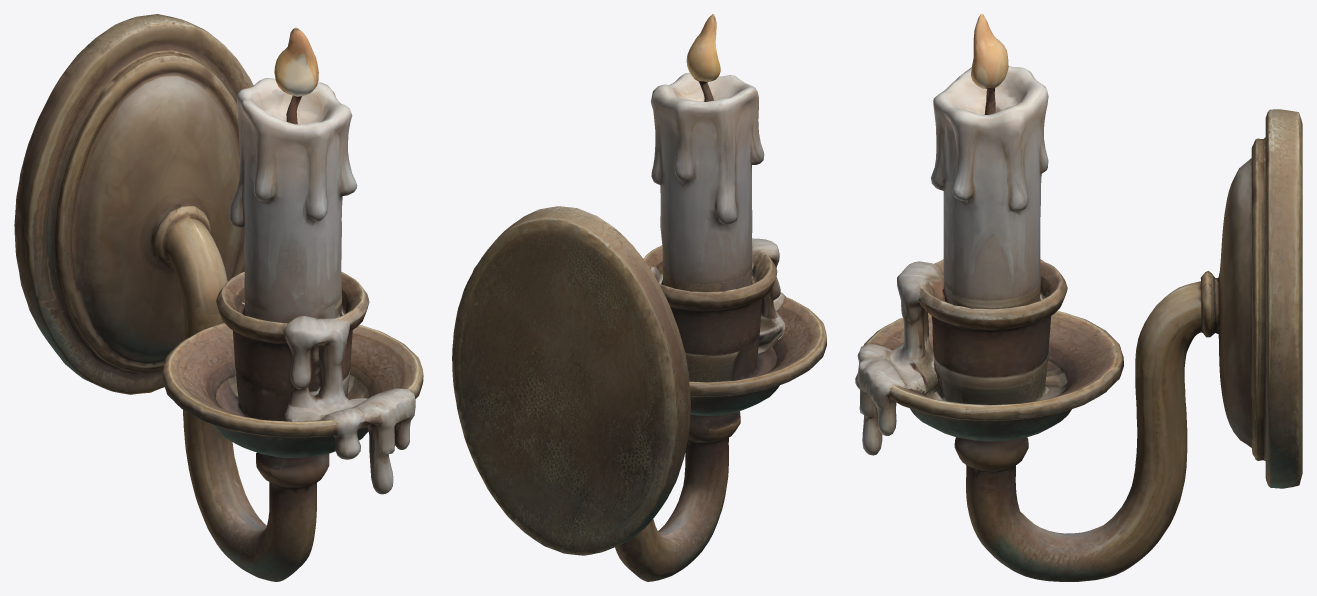
Rendered from Prop_WallSconce.fbx.
The picture shows the model from 3 angles, left to right: view 1: azimuth 30°, elevation 25°; view 2: azimuth 150°, elevation 25°; view 3: azimuth 270°, elevation 25°; orthographic projection. The views are drawn at different scales.
Parts seen in each view (by area): view 1: texture_mapping; view 2: texture_mapping; view 3: texture_mapping.
Boxes of the visible parts, bbox=[...] form: texture_mapping: bbox=[14, 14, 423, 581]; texture_mapping: bbox=[452, 14, 826, 581]; texture_mapping: bbox=[855, 14, 1302, 581].
Bounding box in the file's own units: 0.4529 × 0.7166 × 1.
1 material, 1 textured.
